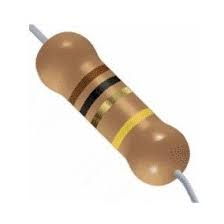resistor: (23, 23, 192, 195)
